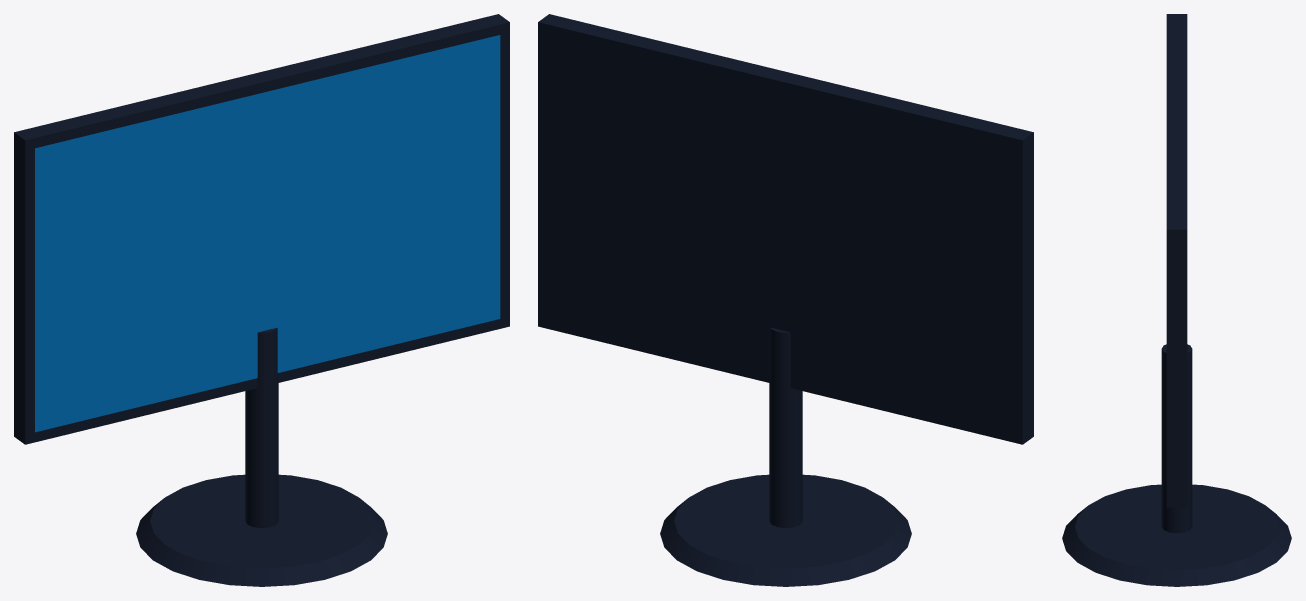
Rendered from monitor.glb.
3 renders of one model, left to right at view 1: azimuth 30°, elevation 25°; view 2: azimuth 150°, elevation 25°; view 3: azimuth 270°, elevation 25°, orthographic. The views are drawn at different scales.
Bounding box in the file's own units: 2 × 1.8 × 0.9.
